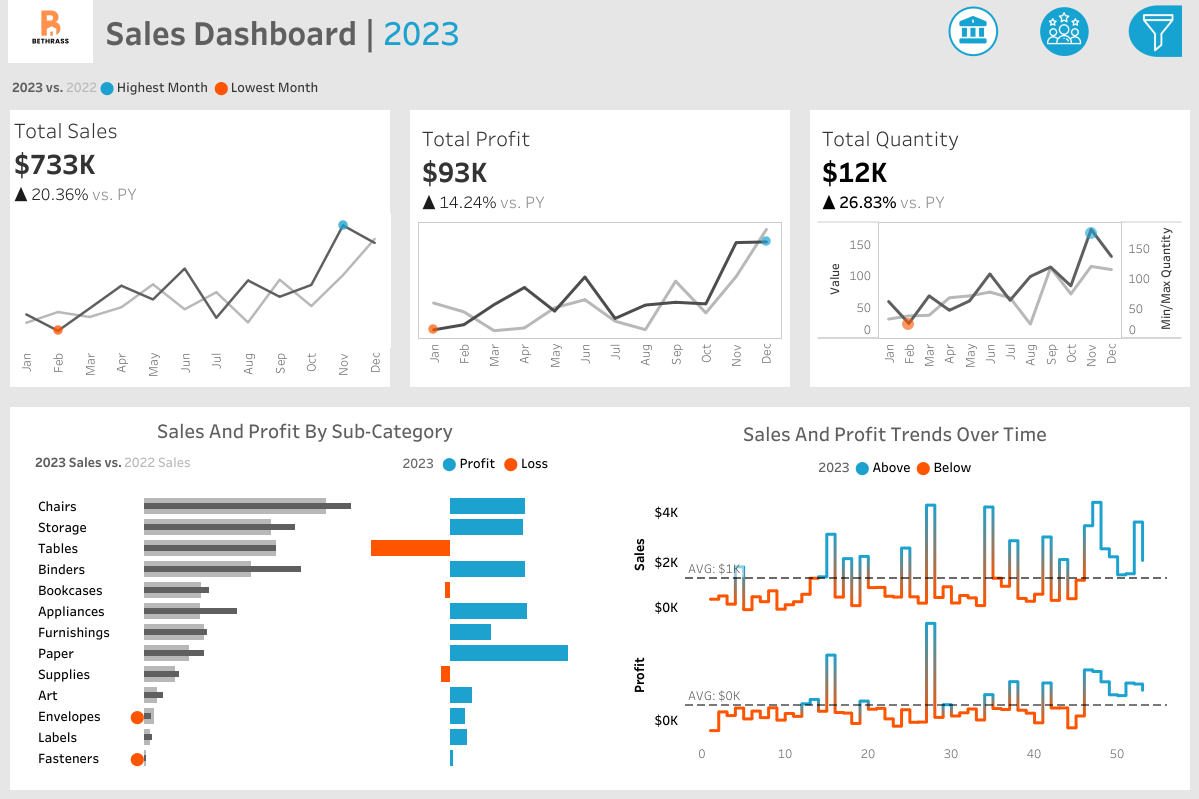

This screenshot's page, from the dashboard's own definition file:
{"tool":"tableau","page":{"name":"Sales Dashboard","canvas":[1200,800],"ordinal":1},"visuals":[{"type":"image","param":"Image/Logo transparent.png","box":[8,0,85,63]},{"type":"text","box":[93,0,835,63]},{"type":"dashboard-object","box":[928,0,91,63]},{"type":"dashboard-object","box":[1019,0,91,63]},{"type":"dashboard-object","box":[1110,0,90,63]},{"type":"worksheet","title":"Legend Of KPI","mark":"Automatic","box":[0,63,1200,47]},{"type":"text","box":[966,66,226,58]},{"type":"worksheet","title":"KPI sales","mark":"Line","rows":["Calculation_586030957021470720"],"cols":["Order Date"],"box":[0,110,400,287]},{"type":"worksheet","title":"KPI Profit","mark":"Automatic","rows":["Calculation_444449043828183045"],"cols":["Order Date"],"box":[400,110,400,287]},{"type":"worksheet","title":"KPI Quantity","mark":"Line","rows":["Calculation_330733153462132739"],"cols":["Order Date"],"box":[800,110,400,287]},{"type":"text","box":[966,124,226,58]},{"type":"parameter","param":"[Parameters].[Parameter 1]","box":[966,182,226,58]},{"type":"text","box":[966,240,226,58]},{"type":"filter","title":"KPI sales","param":"[federated.0wmqwv60f7k1do107pk571ouo60p].[none:Category:nk]","box":[966,298,226,58]},{"type":"filter","title":"KPI sales","param":"[federated.0wmqwv60f7k1do107pk571ouo60p].[none:Sub-Category:nk]","box":[966,356,226,57]},{"type":"blank","box":[966,413,226,57]},{"type":"text","box":[20,417,570,26]},{"type":"text","box":[610,417,570,32.1]},{"type":"text","box":[610,449.1,570,34.2]},{"type":"worksheet","title":"Legend Of Sub-Category","mark":"Automatic","box":[27,450,369,22]},{"type":"text","box":[396,450,187,22]},{"type":"text","box":[966,470,226,57]},{"type":"worksheet","title":"Sales & Profit By Category","mark":"Bar","rows":["Sub-Category","Calculation_202099089152610304"],"cols":["Calculation_364791625213882369","Calculation_364791625210621952","Calculation_444449043821490176"],"box":[20,483.2,570,296.7]},{"type":"worksheet","title":"Weekly Trends By Sales","mark":"Line","rows":["Calculation_364791625210621952","Calculation_444449043821490176"],"cols":["Order Date"],"box":[610,483.3,570,296.7]},{"type":"filter","title":"KPI sales","param":"[federated.0wmqwv60f7k1do107pk571ouo60p].[none:Region:nk]","box":[966,527,226,57]},{"type":"filter","title":"KPI sales","param":"[federated.0wmqwv60f7k1do107pk571ouo60p].[none:State:nk]","box":[966,584,226,57]},{"type":"filter","title":"KPI sales","param":"[federated.0wmqwv60f7k1do107pk571ouo60p].[none:City:nk]","box":[966,641,226,57]}]}

Visuals, with their boxes in screenshot pixels (x1, y1, x2, y2), scaled from the page's 1200x800 canvas onto the 1199x799 screenshot:
image: (left=8, top=0, right=93, bottom=63)
text: (left=93, top=0, right=927, bottom=63)
dashboard-object: (left=927, top=0, right=1018, bottom=63)
dashboard-object: (left=1018, top=0, right=1109, bottom=63)
dashboard-object: (left=1109, top=0, right=1198, bottom=63)
"Legend Of KPI" worksheet: (left=0, top=63, right=1198, bottom=110)
text: (left=965, top=66, right=1191, bottom=124)
"KPI sales" worksheet (Line marks): (left=0, top=110, right=400, bottom=397)
"KPI Profit" worksheet: (left=400, top=110, right=799, bottom=397)
"KPI Quantity" worksheet (Line marks): (left=799, top=110, right=1198, bottom=397)
text: (left=965, top=124, right=1191, bottom=182)
parameter: (left=965, top=182, right=1191, bottom=240)
text: (left=965, top=240, right=1191, bottom=298)
"KPI sales" filter: (left=965, top=298, right=1191, bottom=356)
"KPI sales" filter: (left=965, top=356, right=1191, bottom=412)
blank: (left=965, top=412, right=1191, bottom=469)
text: (left=20, top=416, right=590, bottom=442)
text: (left=609, top=416, right=1179, bottom=449)
text: (left=609, top=449, right=1179, bottom=483)
"Legend Of Sub-Category" worksheet: (left=27, top=449, right=396, bottom=471)
text: (left=396, top=449, right=583, bottom=471)
text: (left=965, top=469, right=1191, bottom=526)
"Sales & Profit By Category" worksheet (Bar marks): (left=20, top=483, right=590, bottom=779)
"Weekly Trends By Sales" worksheet (Line marks): (left=609, top=483, right=1179, bottom=779)
"KPI sales" filter: (left=965, top=526, right=1191, bottom=583)
"KPI sales" filter: (left=965, top=583, right=1191, bottom=640)
"KPI sales" filter: (left=965, top=640, right=1191, bottom=697)
